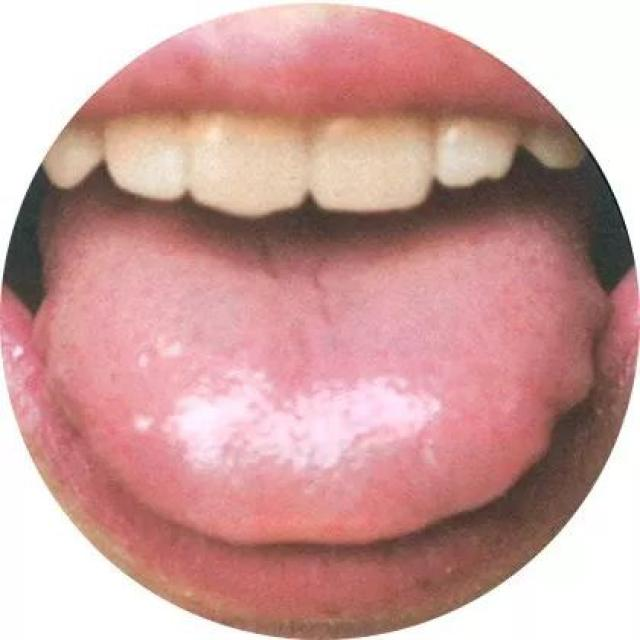tongue: (31, 197, 613, 552)
